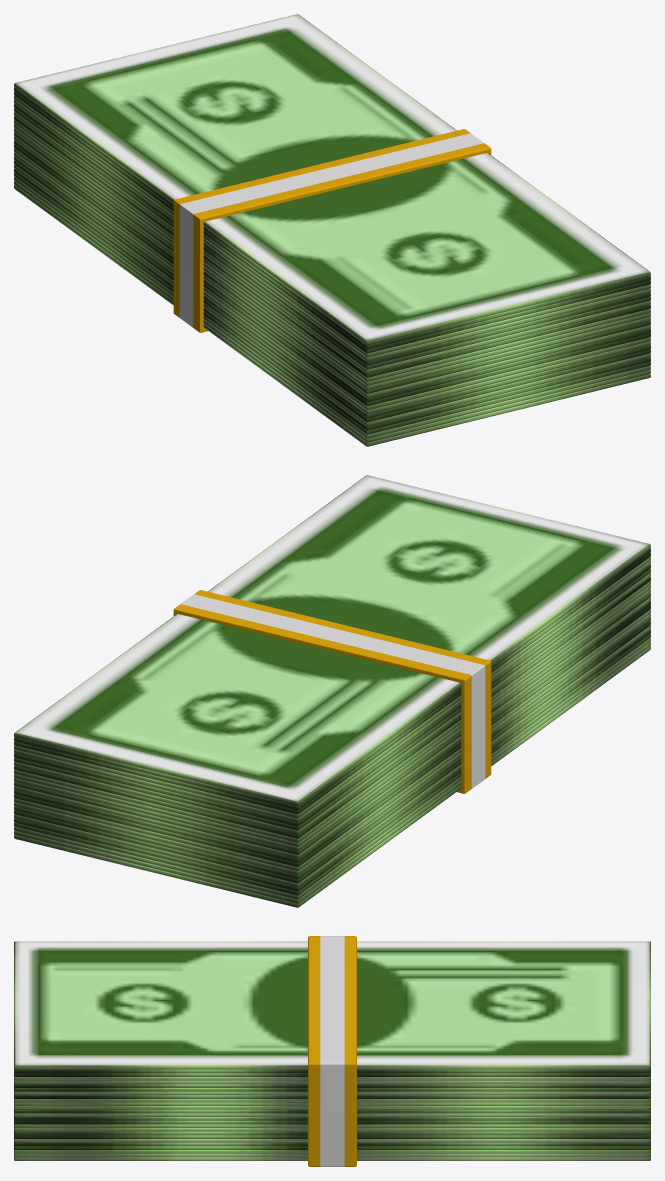
File: DaoLe_small(1).fbx
The picture shows the model from 3 angles, top to bottom: view 1: azimuth 30°, elevation 25°; view 2: azimuth 150°, elevation 25°; view 3: azimuth 270°, elevation 25°; orthographic projection. The views are drawn at different scales.
Visible parts, largest first — view 1: DaoLe_small; view 2: DaoLe_small; view 3: DaoLe_small.
Boxes of the visible parts, left/top/right/bottom form: DaoLe_small: left=14, top=14, right=650, bottom=446; DaoLe_small: left=14, top=475, right=650, bottom=907; DaoLe_small: left=14, top=936, right=650, bottom=1166.
Size of the model in its own units: 27.06 by 10.15 by 56.71.
Materials: 4 (2 with a texture image).
